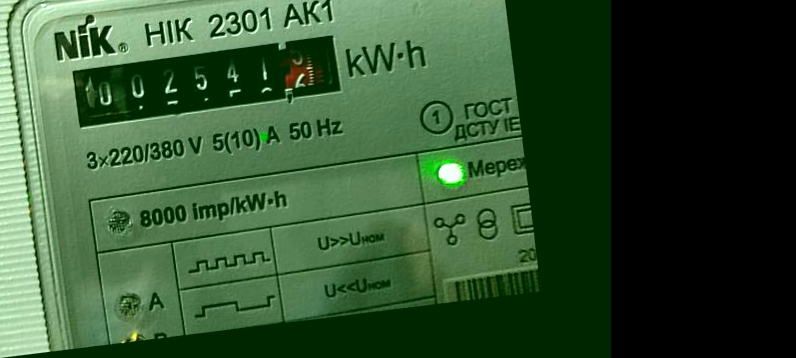0: (126, 67, 149, 102), (96, 77, 116, 108)
1: (253, 49, 273, 84)
2: (157, 62, 182, 99)
4: (222, 54, 243, 87)
5: (191, 61, 211, 94)
6: (290, 69, 309, 91)
screen: (56, 18, 365, 145)
